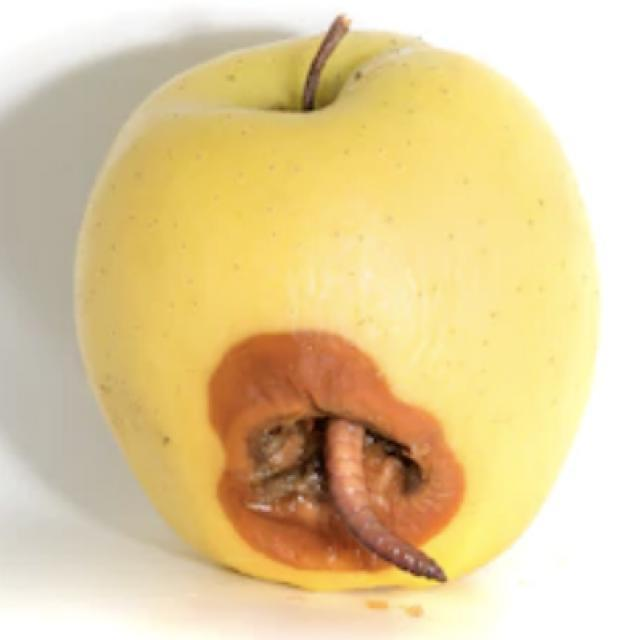Rotten: (121, 35, 572, 573)
